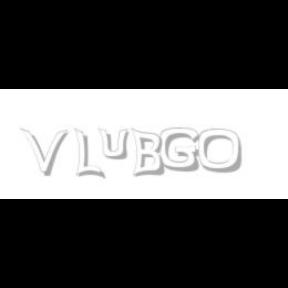B: (130, 128, 164, 178)
G: (159, 128, 199, 172)
L: (75, 128, 103, 180)
O: (198, 128, 242, 174)
V: (20, 128, 68, 176)
u: (98, 128, 132, 160)
